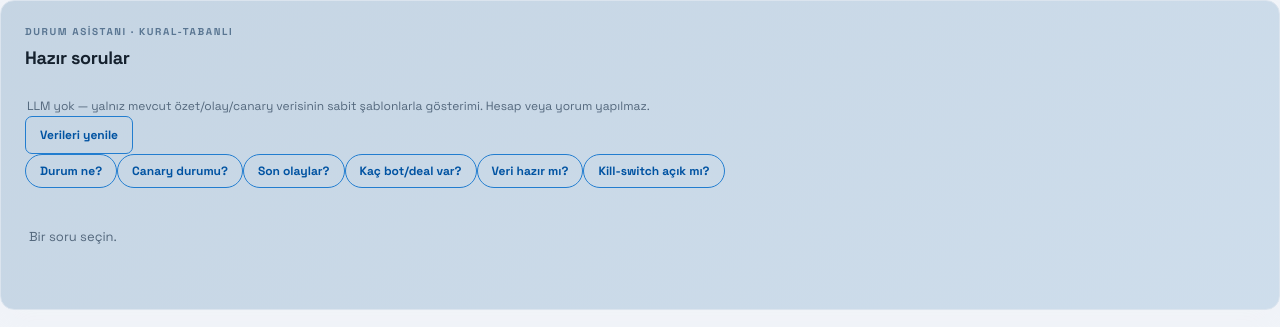
Test: AssistantPanel › kill-switch sorusu açık durumda uyarı metni verir
Click the button "Kill-switch açık mı?" at point(654, 171), box [583, 154, 724, 188]
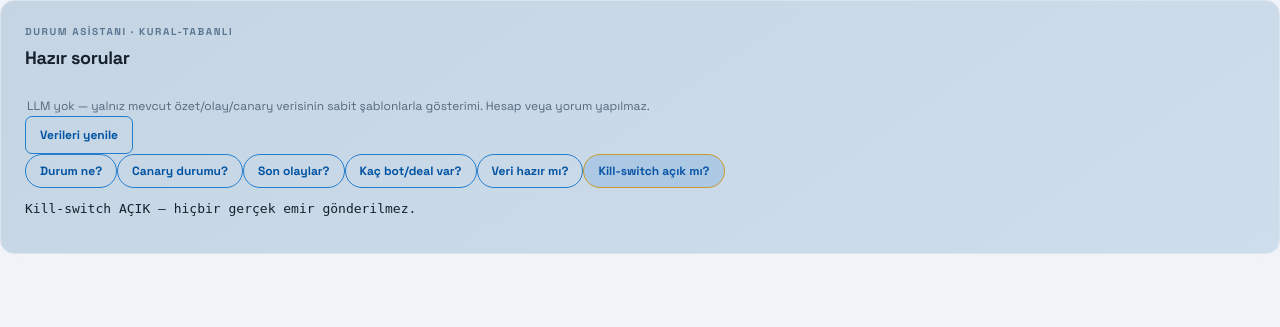
Expected: the text "Kill-switch AÇIK — hiçbir gerçek emir gönderilmez." is shown, [25, 201, 416, 216]
